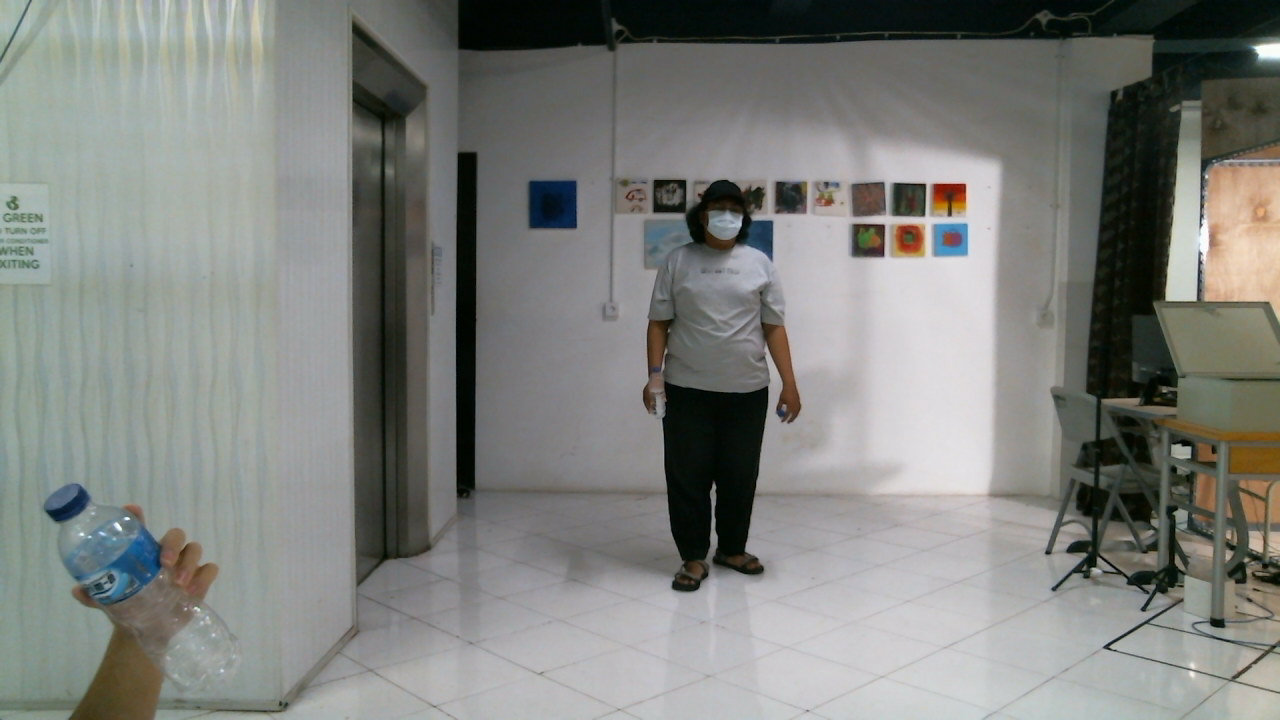Bottle: (42, 482, 247, 699)
